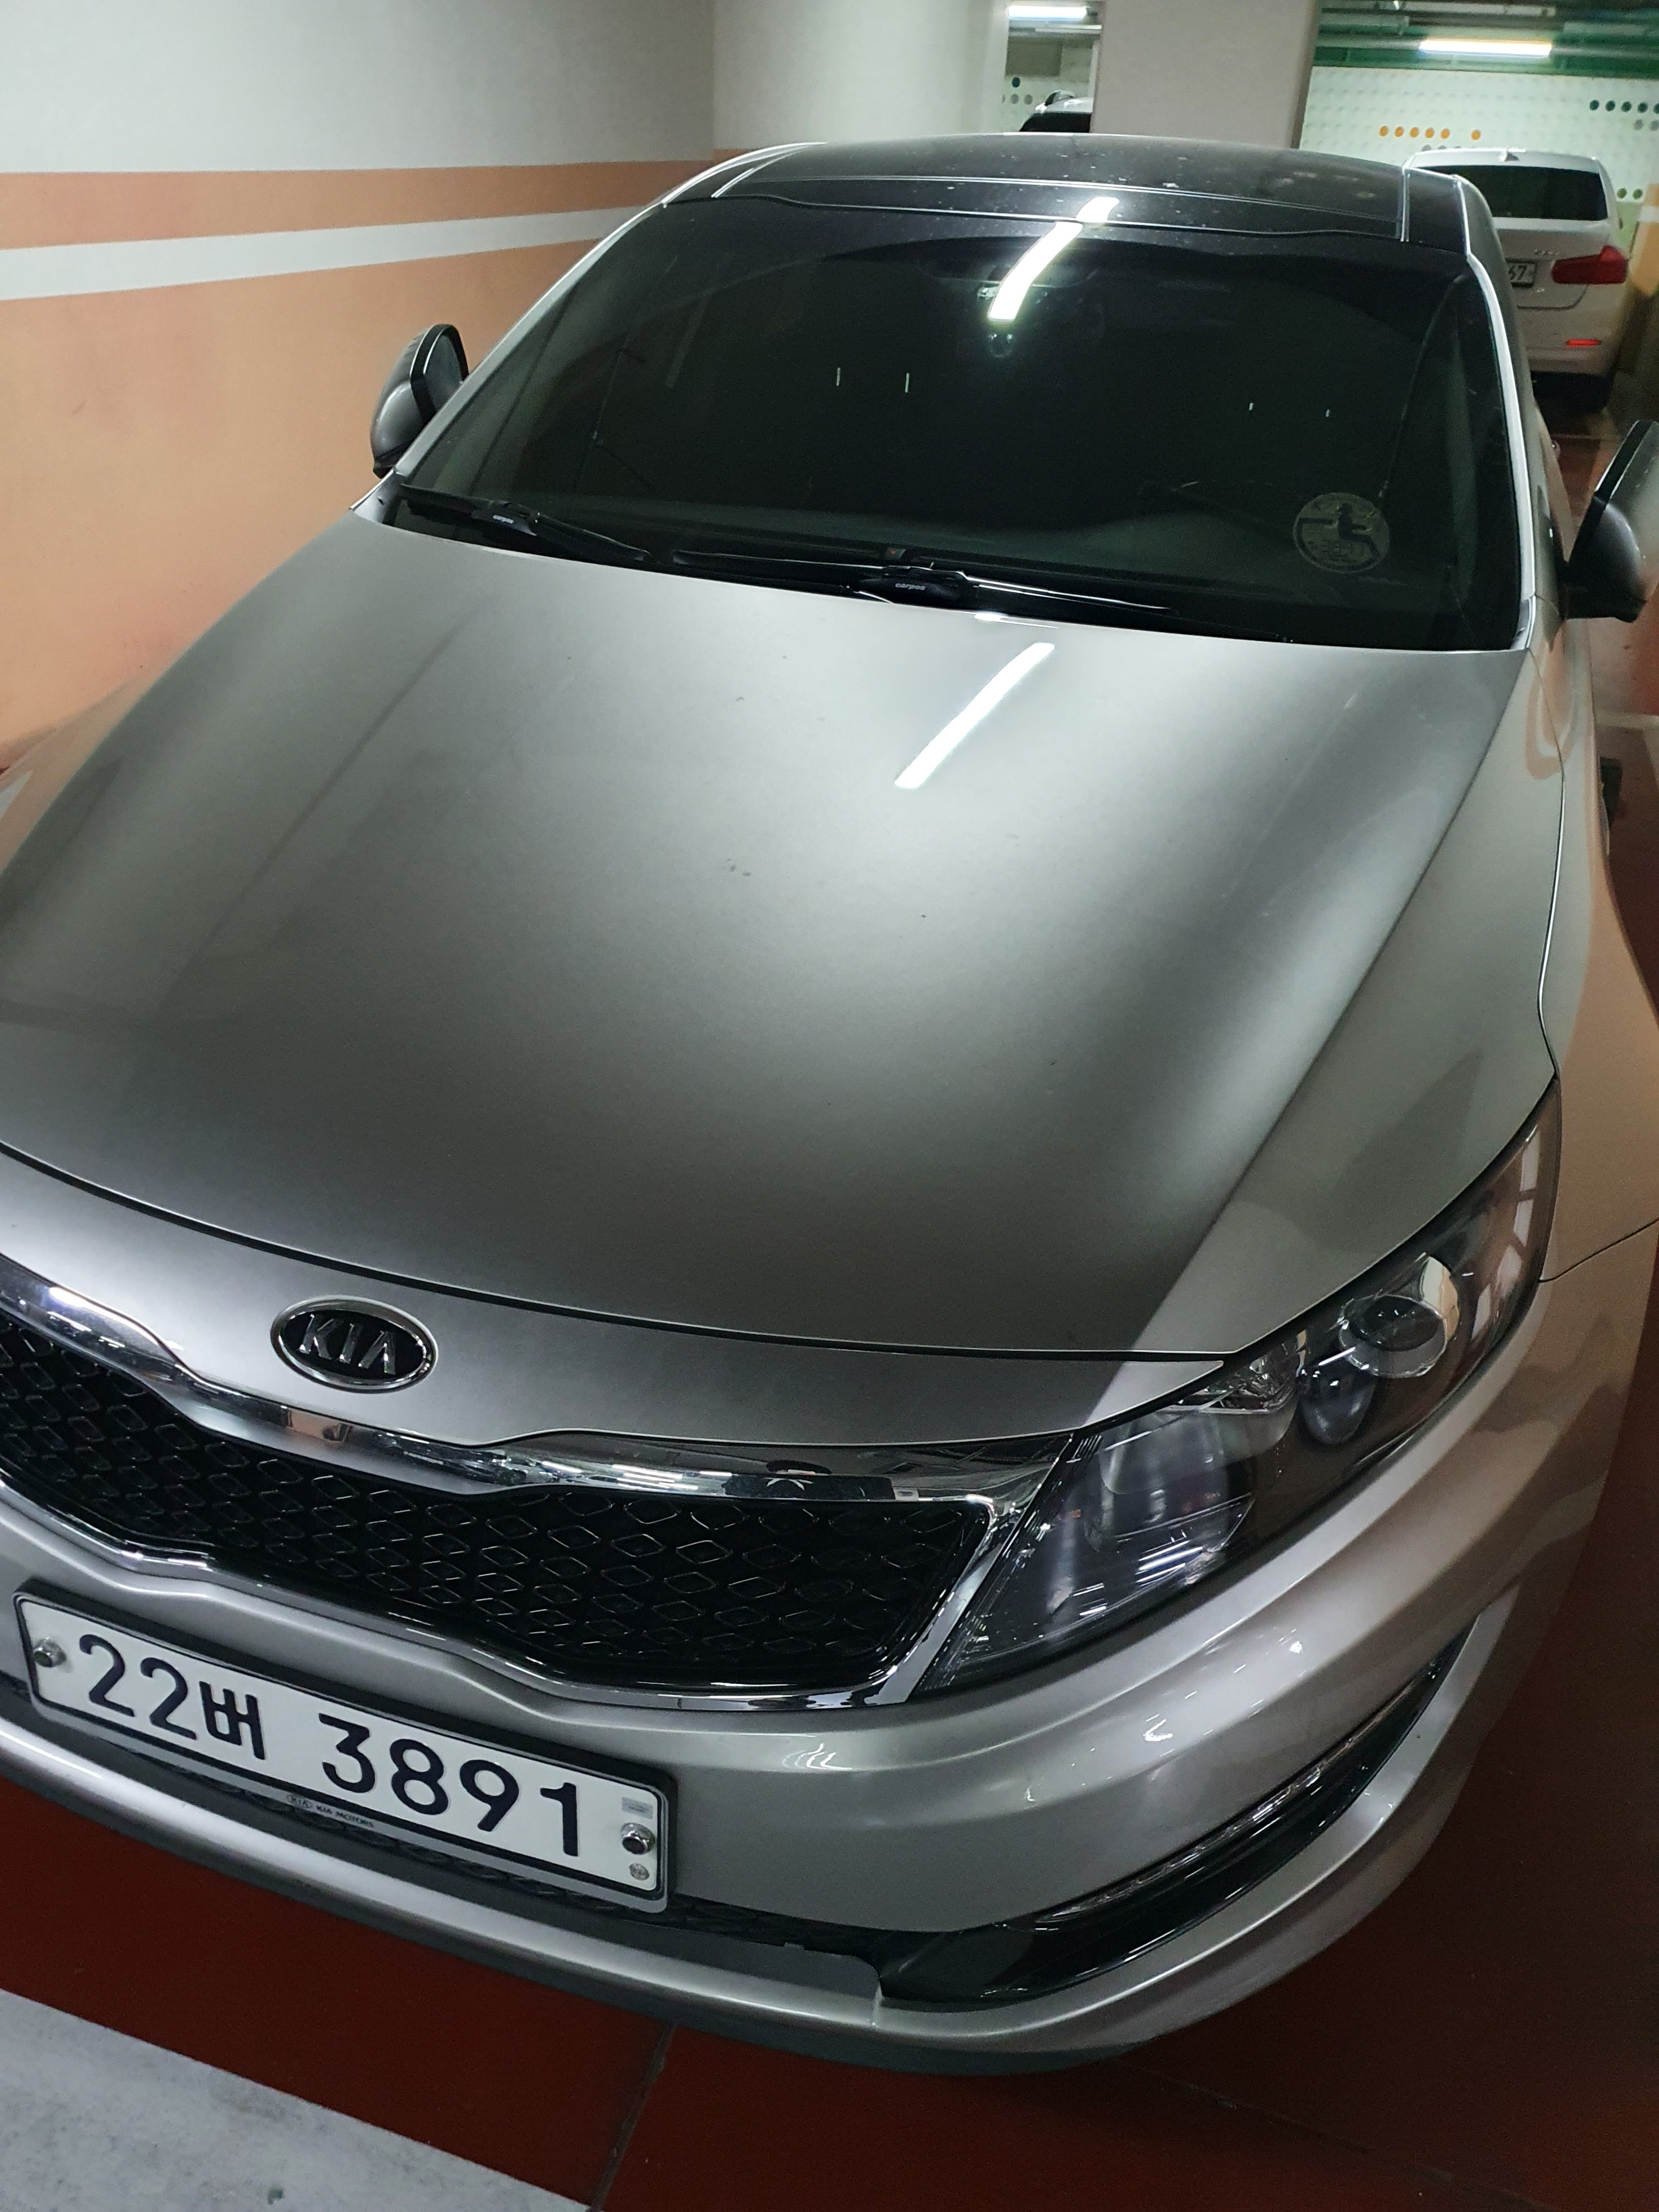disabled_parking: (1291, 484, 1399, 578)
